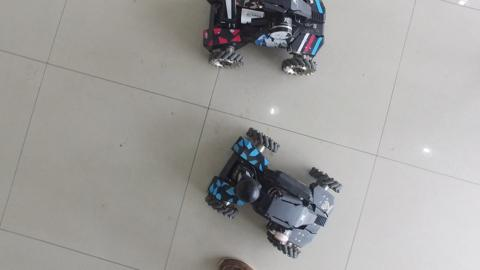chariot: (198, 119, 352, 264), (199, 1, 342, 81)
